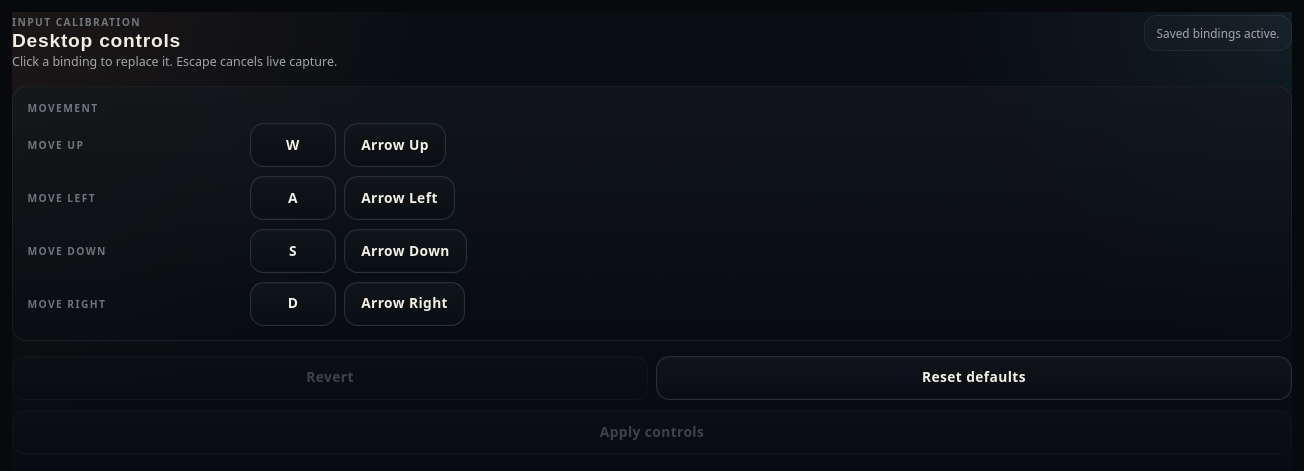
Test: DesktopControlSettingsSection › keeps reset available while revert and apply only activate for unsaved changes
The image size is (1304, 471).
Expected: the button "Revert" is disabled, [12, 356, 648, 400]
Expected: the button "Apply controls" is disabled, [12, 410, 1292, 454]
Step 1. Click the button "W" → (293, 145), box [250, 123, 336, 167]
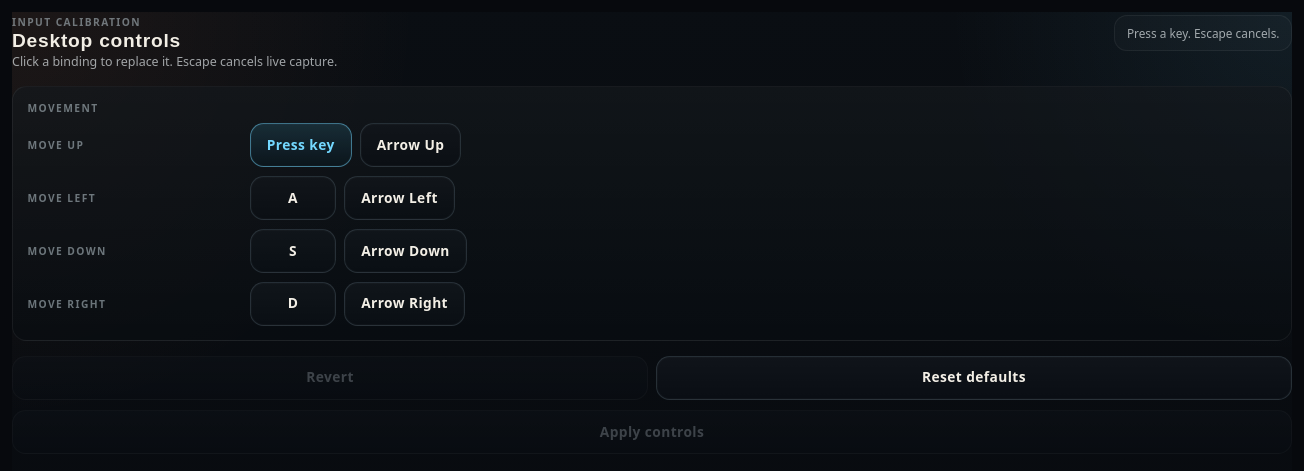
Step 2. Press i
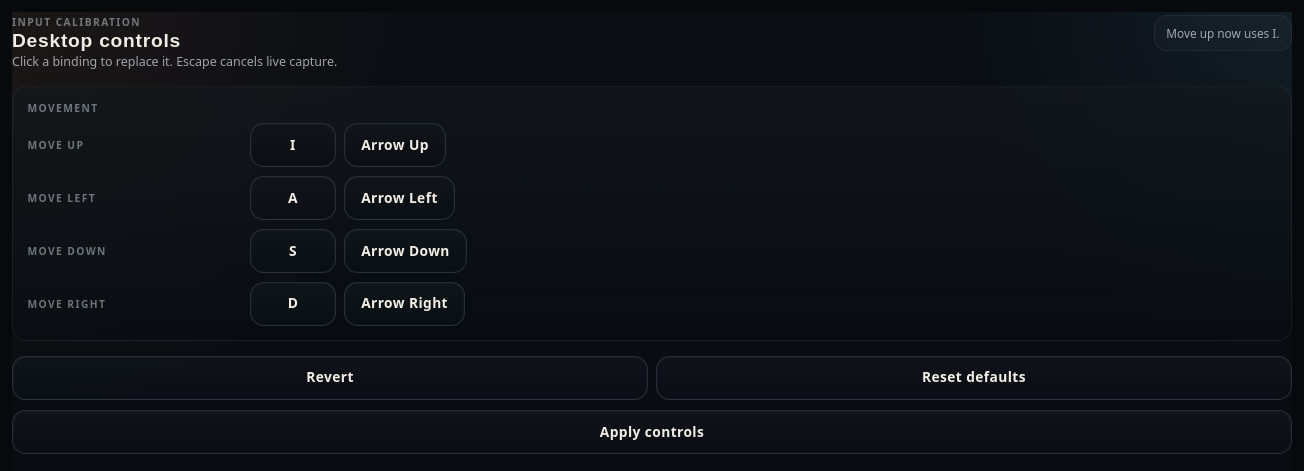
Now the button "Revert" is enabled, box [12, 356, 648, 400]
Now the button "Apply controls" is enabled, box [12, 410, 1292, 454]
